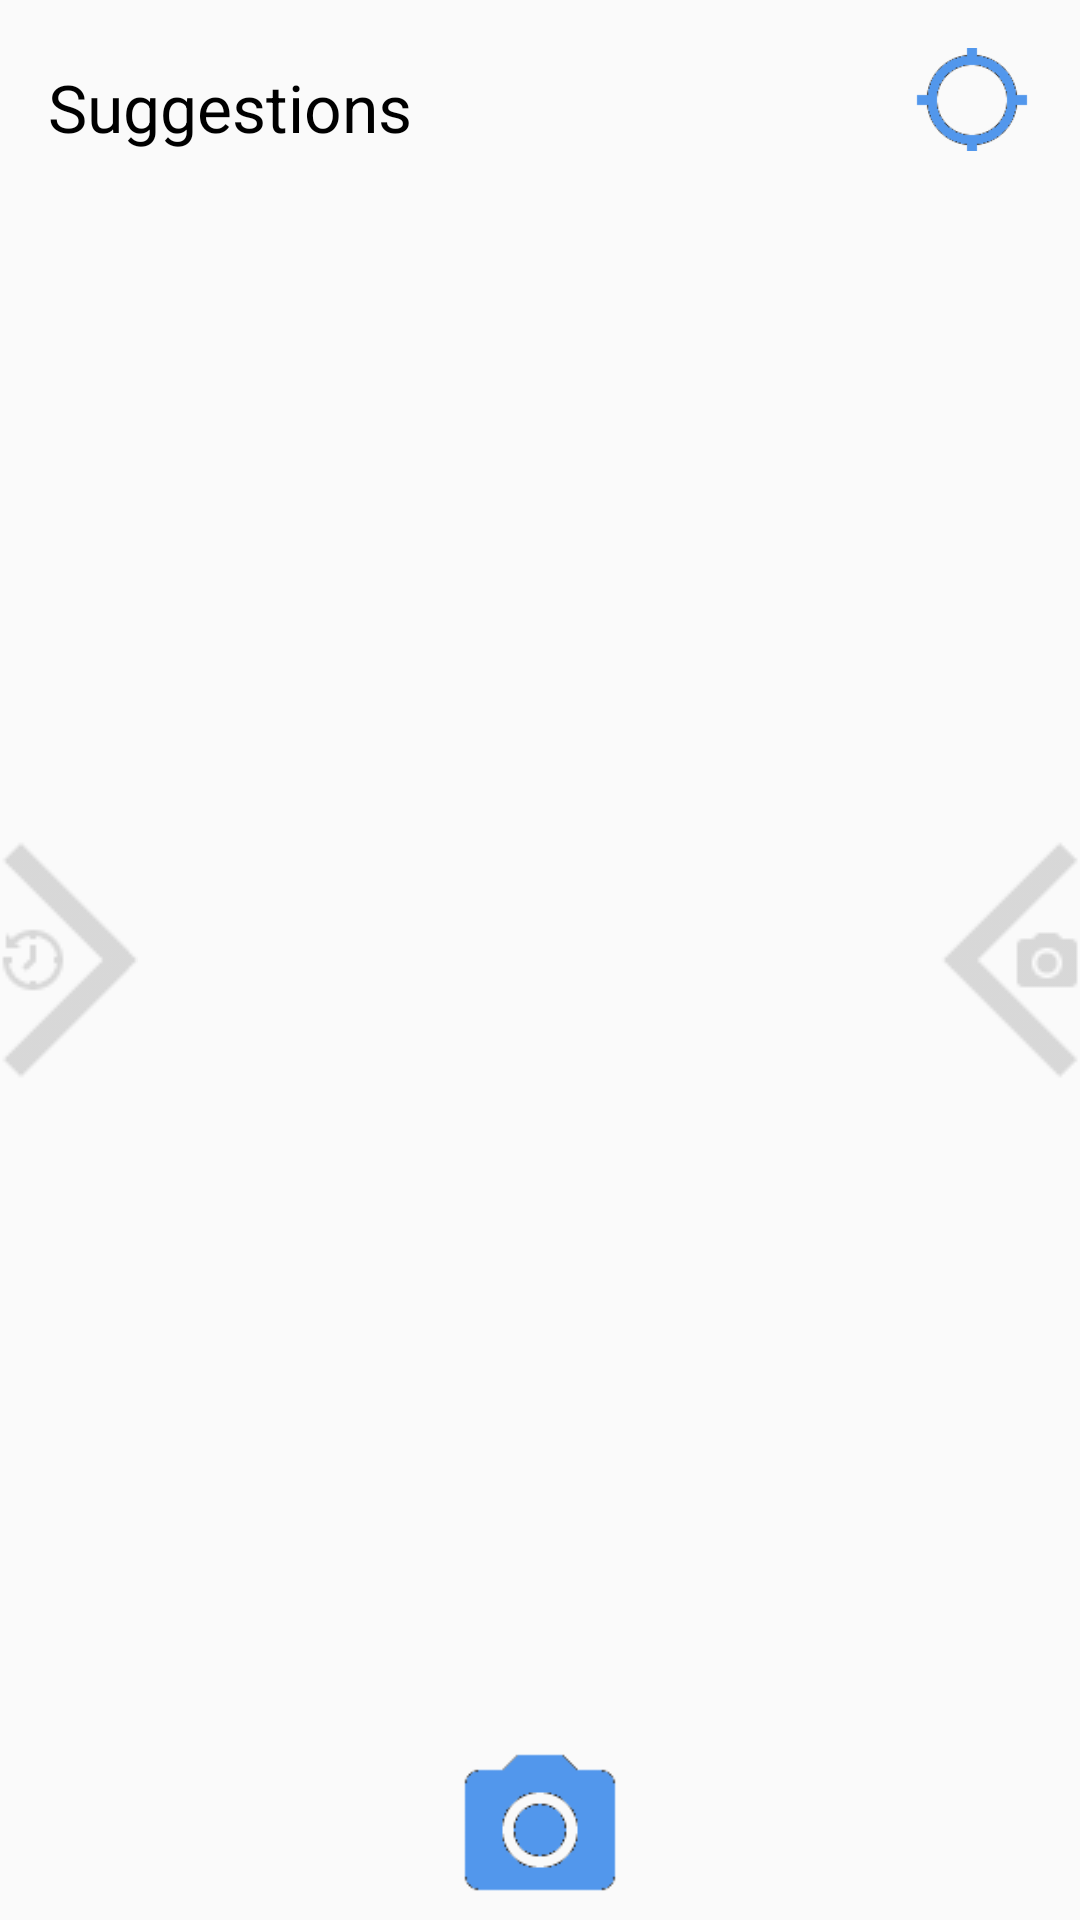

Named icons in this screenshot (1080px x 1920px) and their centers, (x,y):
cam: (1011,960)
camera: (540,1822)
hist: (69,960)
location: (972,99)
